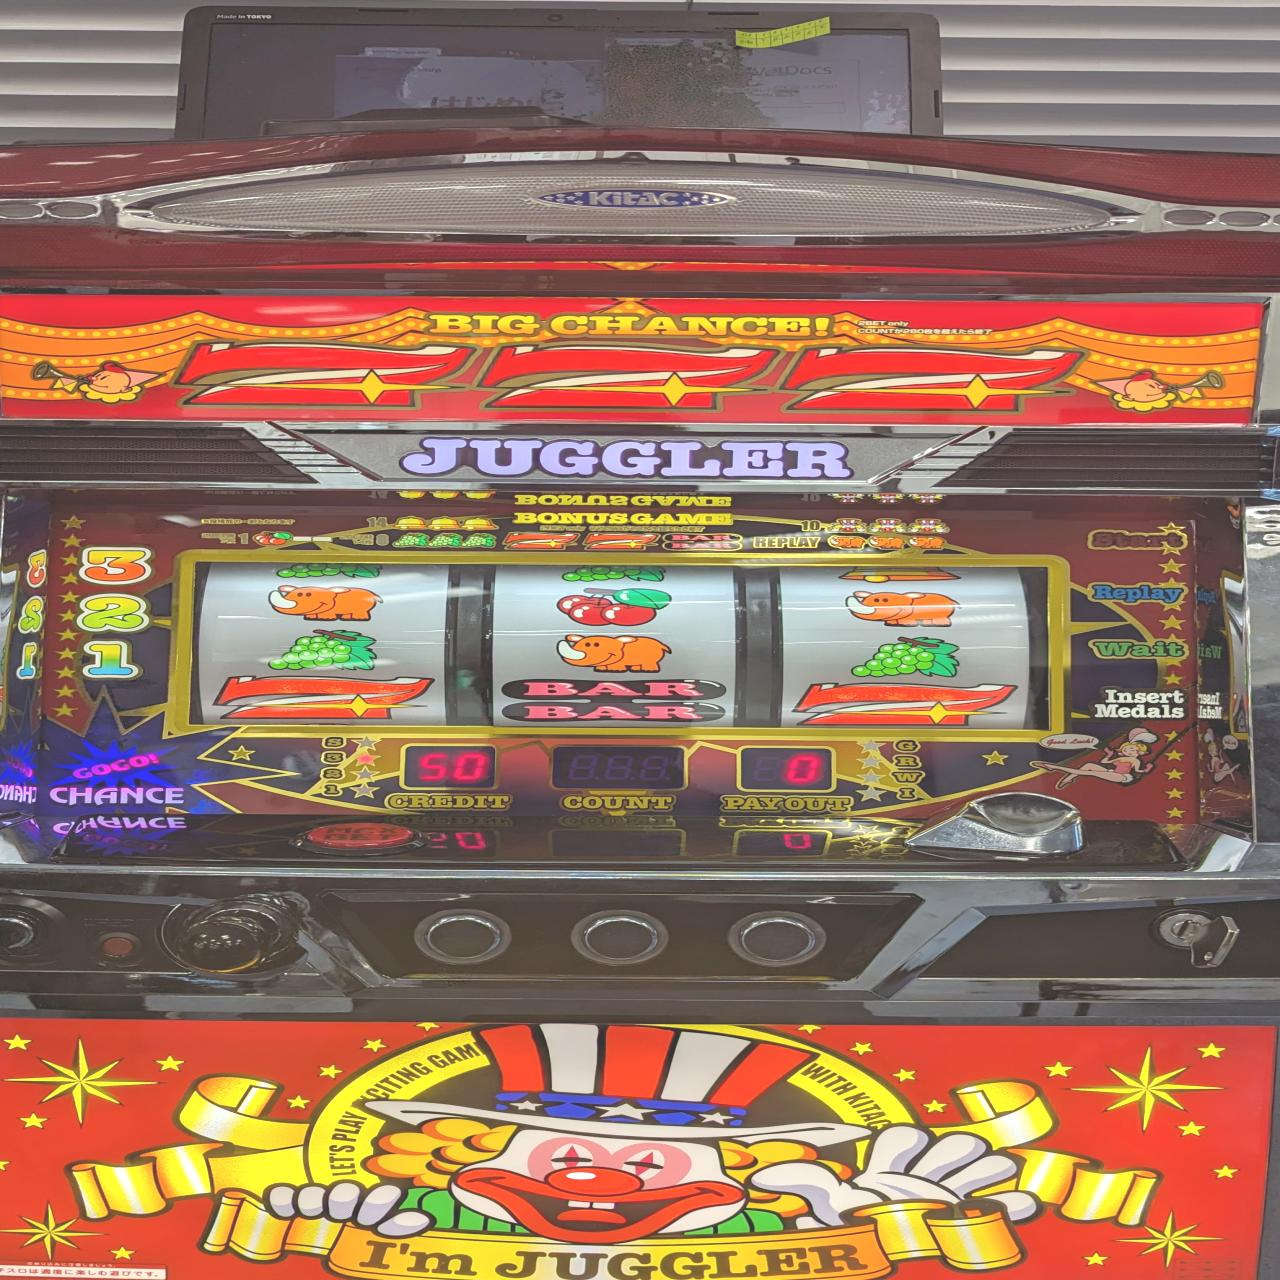7: (790, 682, 1016, 727), (211, 676, 437, 720)
Display: (181, 552, 1060, 741)
bar: (501, 679, 726, 723)
cherry: (551, 587, 674, 627)
grape: (847, 636, 964, 680), (266, 629, 379, 670)
rhino: (266, 584, 388, 625), (554, 633, 673, 675), (844, 591, 960, 628)
